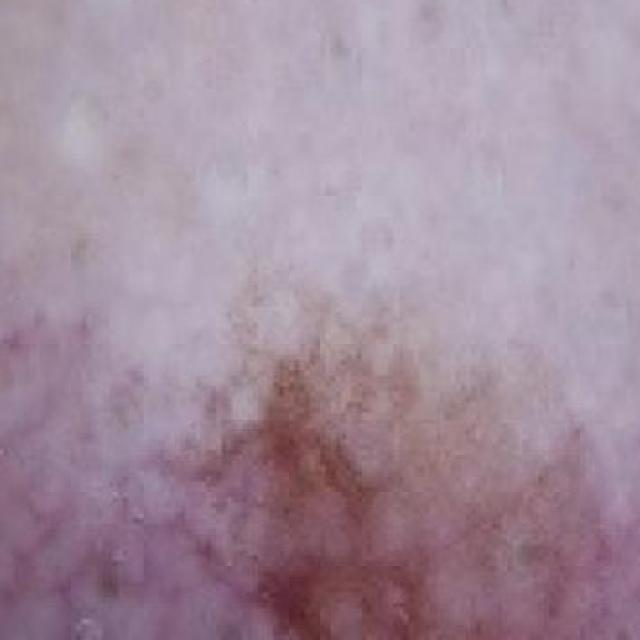BKL: (0, 285, 640, 640)
